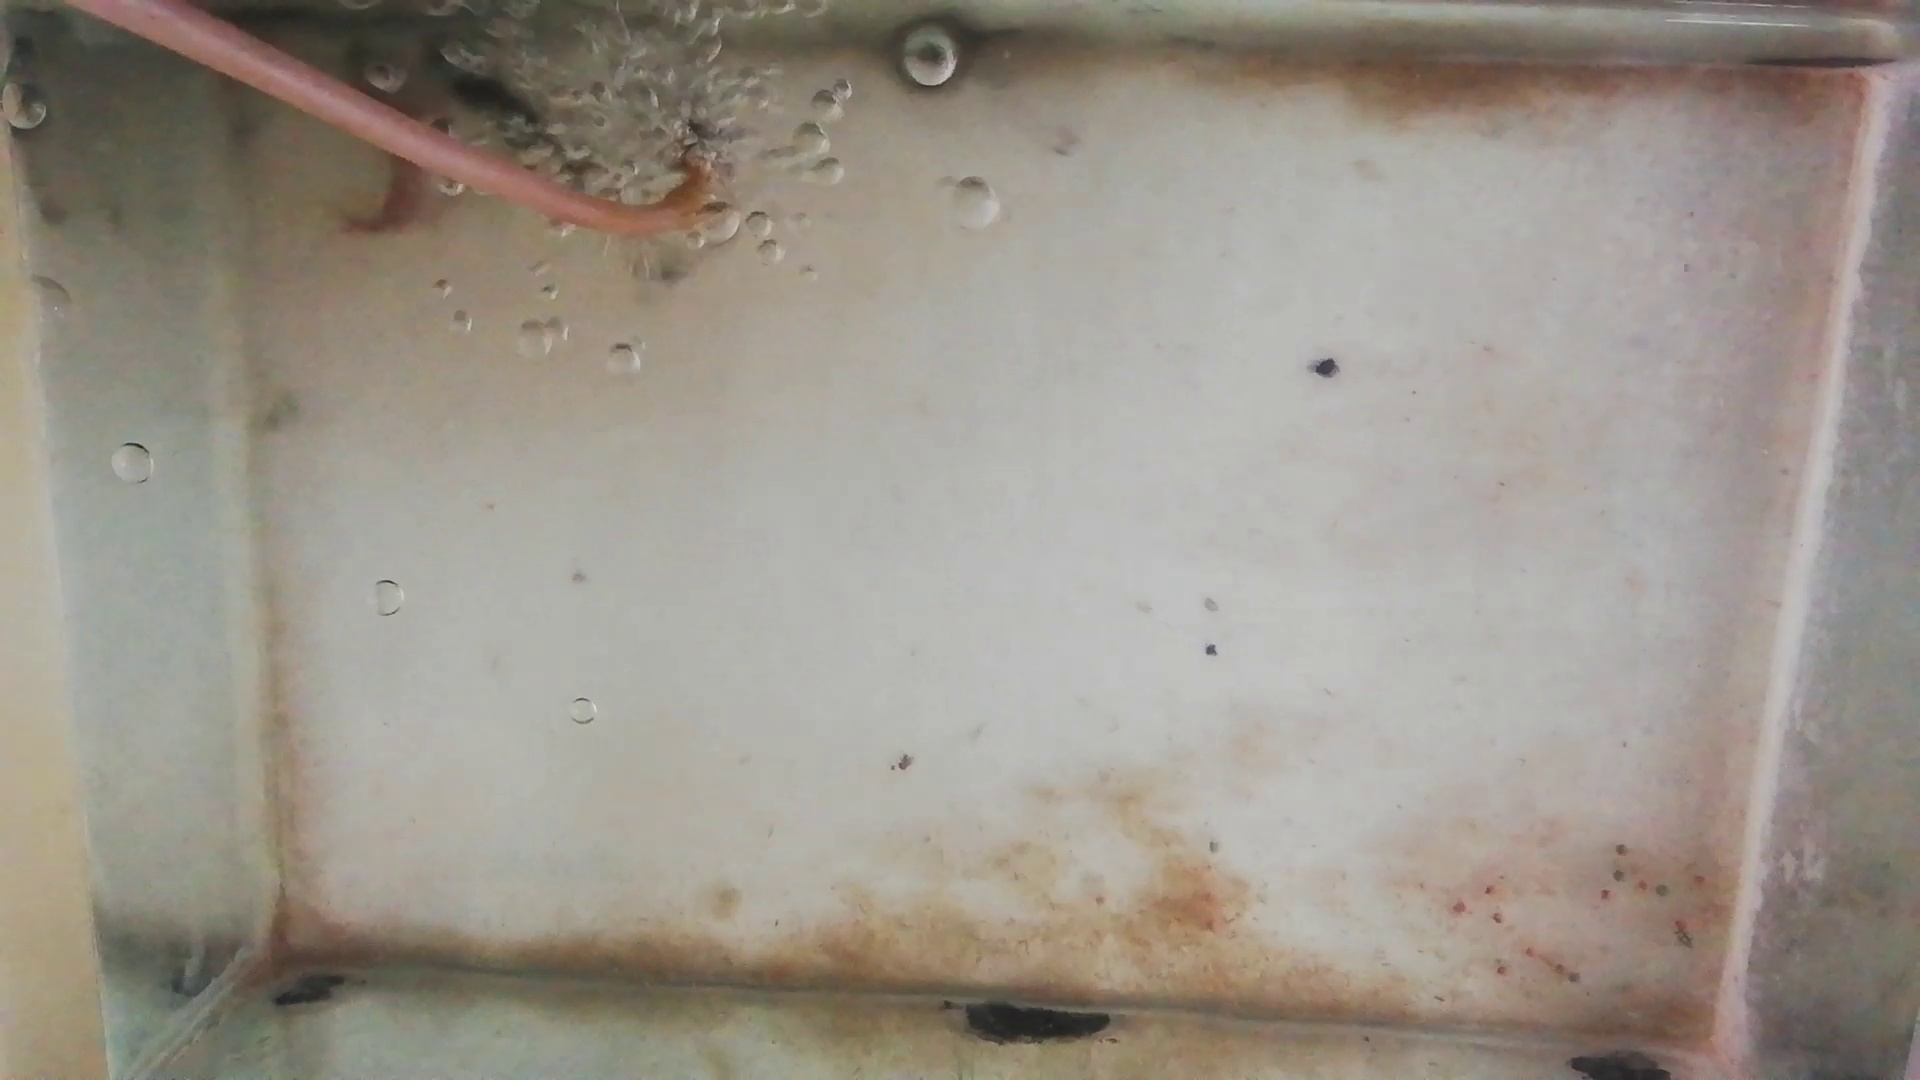fish: (425, 36, 578, 179), (357, 80, 426, 233)
